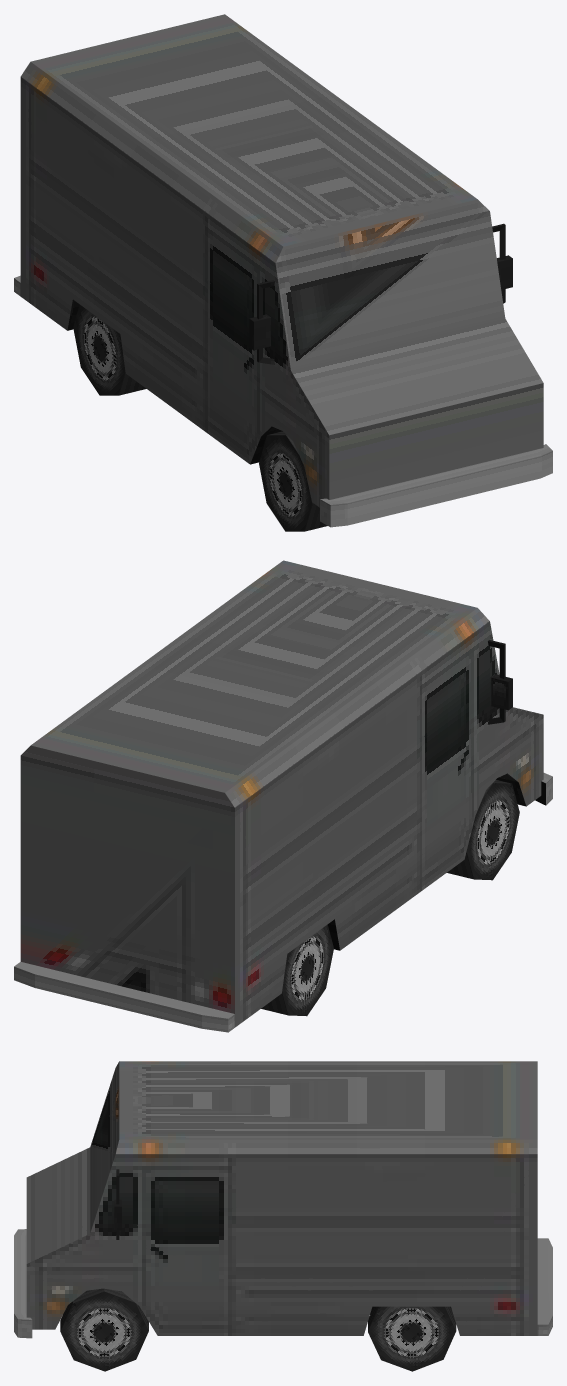
File: car8-grey.lod.glb
3 renders of one model, top to bottom at view 1: azimuth 30°, elevation 25°; view 2: azimuth 150°, elevation 25°; view 3: azimuth 270°, elevation 25°, orthographic. The views are drawn at different scales.
Visible parts, largest first — view 1: Car8; view 2: Car8; view 3: Car8.
Part boxes in pixels (bbox=[...]): Car8: bbox=[14, 14, 552, 531]; Car8: bbox=[14, 560, 552, 1032]; Car8: bbox=[14, 1061, 552, 1371].
Size of the model in its own units: 3.17 by 3.23 by 6.89.
Materials: 1 (1 with a texture image).
